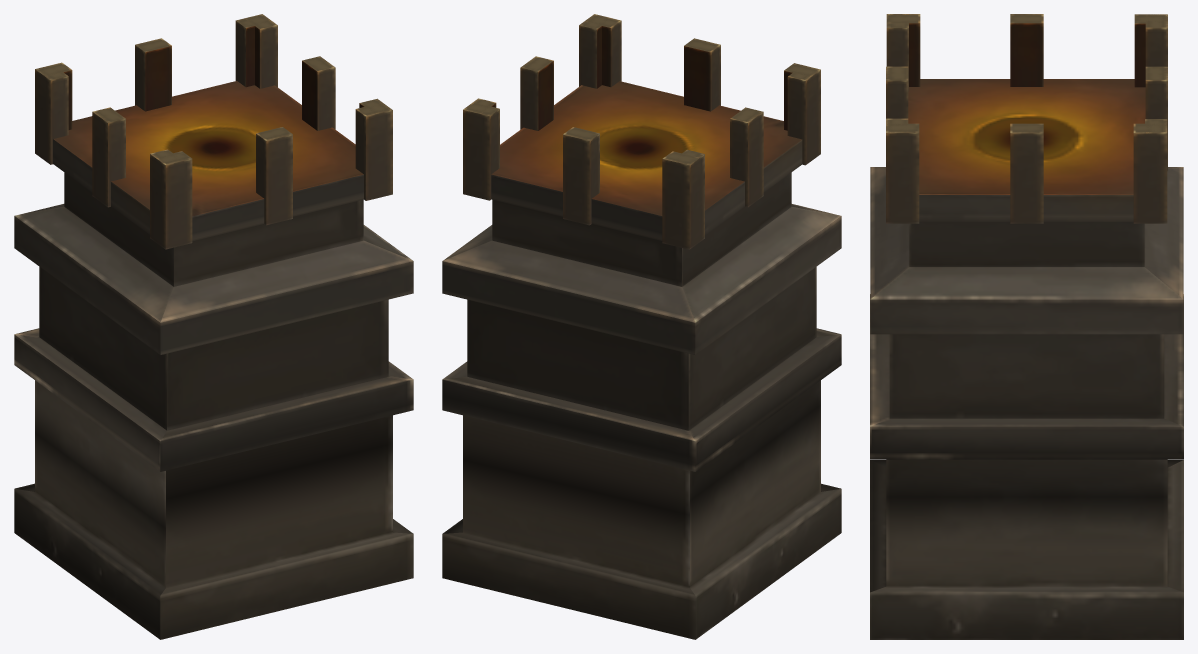
File: Battle04_Light_02.FBX
The picture shows the model from 3 angles, left to right: view 1: azimuth 30°, elevation 25°; view 2: azimuth 150°, elevation 25°; view 3: azimuth 270°, elevation 25°; orthographic projection. The views are drawn at different scales.
Visible parts, largest first — view 1: Battle04_Light_02; view 2: Battle04_Light_02; view 3: Battle04_Light_02.
Part boxes in pixels (<box>): Battle04_Light_02: <box>14,14,413,639</box>; Battle04_Light_02: <box>442,14,841,639</box>; Battle04_Light_02: <box>870,14,1183,639</box>.
Size of the model in its own units: 1.59 by 2.8 by 1.59.
